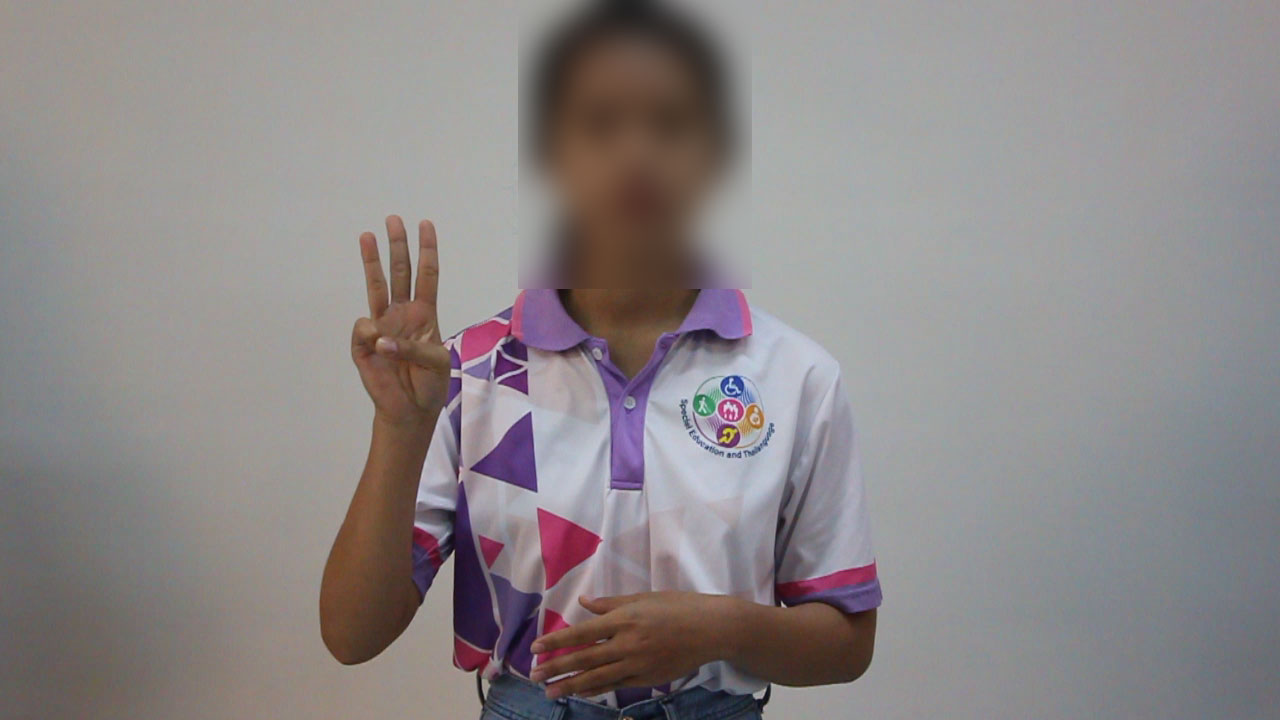wor: (343, 204, 455, 429)
